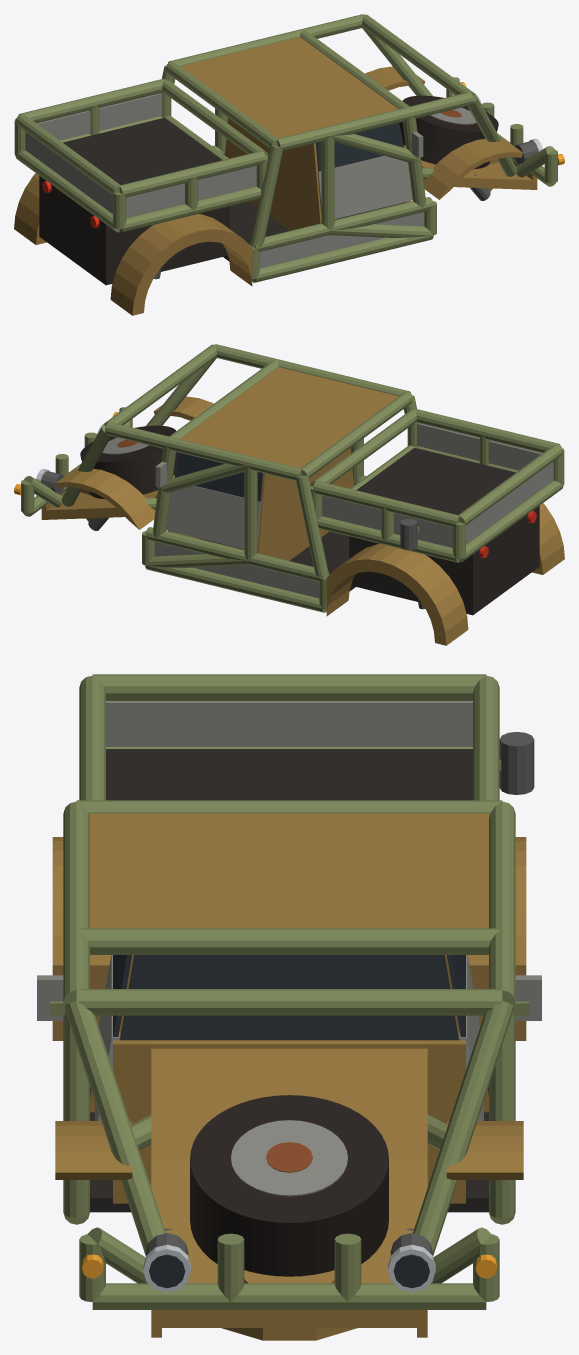
The model's file is base_buggy.glb.
The picture shows the model from 3 angles, top to bottom: view 1: azimuth 30°, elevation 25°; view 2: azimuth 150°, elevation 25°; view 3: azimuth 270°, elevation 25°; orthographic projection. The views are drawn at different scales.
Visible parts, largest first — view 1: base_buggy; view 2: base_buggy; view 3: base_buggy.
Boxes of the visible parts, x1,y1,x2,y2 form: base_buggy: (14,14,564,315); base_buggy: (14,344,564,645); base_buggy: (37,674,541,1340).
Size of the model in its own units: 3.89 by 1.2 by 1.9.
